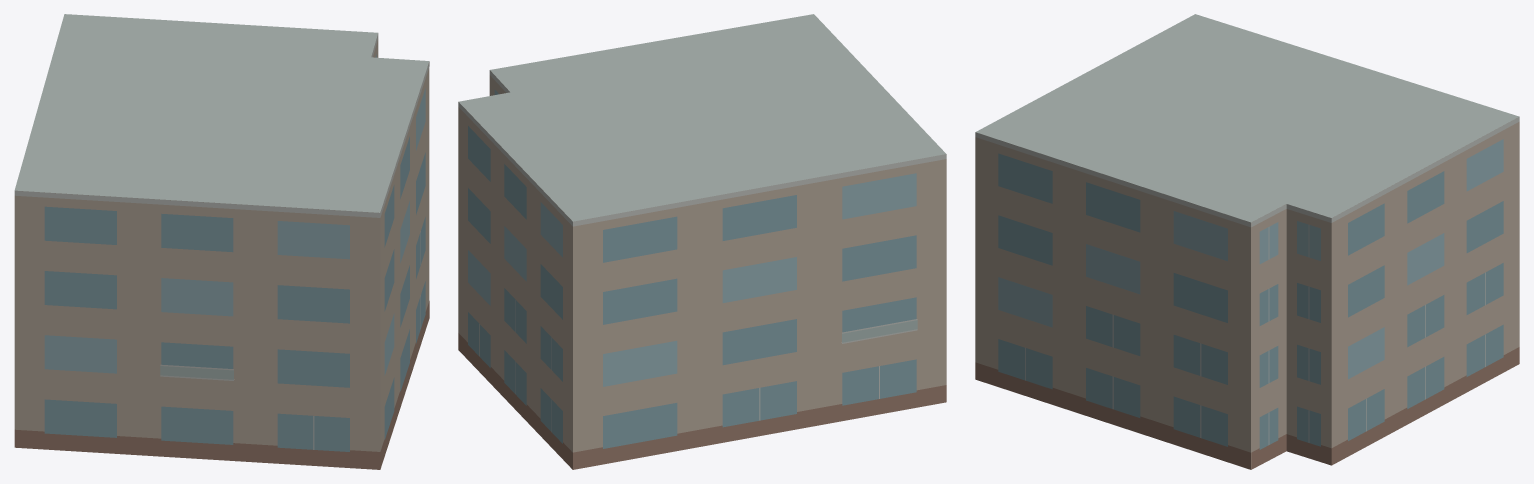
Rendered from survey-upis-32952248.glb.
3 renders of one model, left to right at view 1: azimuth 30°, elevation 25°; view 2: azimuth 150°, elevation 25°; view 3: azimuth 270°, elevation 25°, orthographic. The views are drawn at different scales.
Parts seen in each view (by area): view 1: survey-upis-32952248.tmp; view 2: survey-upis-32952248.tmp; view 3: survey-upis-32952248.tmp.
Part boxes in pixels (bbox=[...]): survey-upis-32952248.tmp: bbox=[14, 14, 429, 469]; survey-upis-32952248.tmp: bbox=[458, 14, 946, 469]; survey-upis-32952248.tmp: bbox=[975, 14, 1519, 469].
Size of the model in its own units: 22.06 by 12.2 by 24.33.
